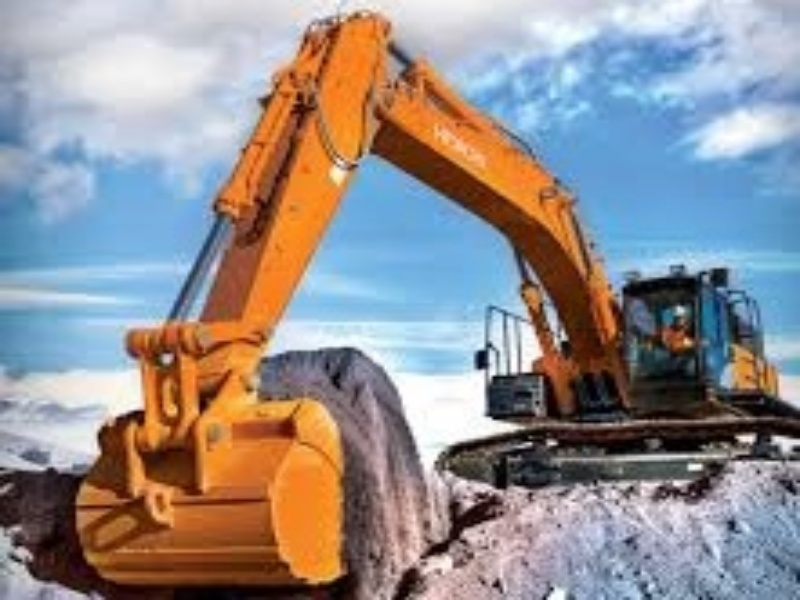wajueji: (408, 181, 800, 524)
